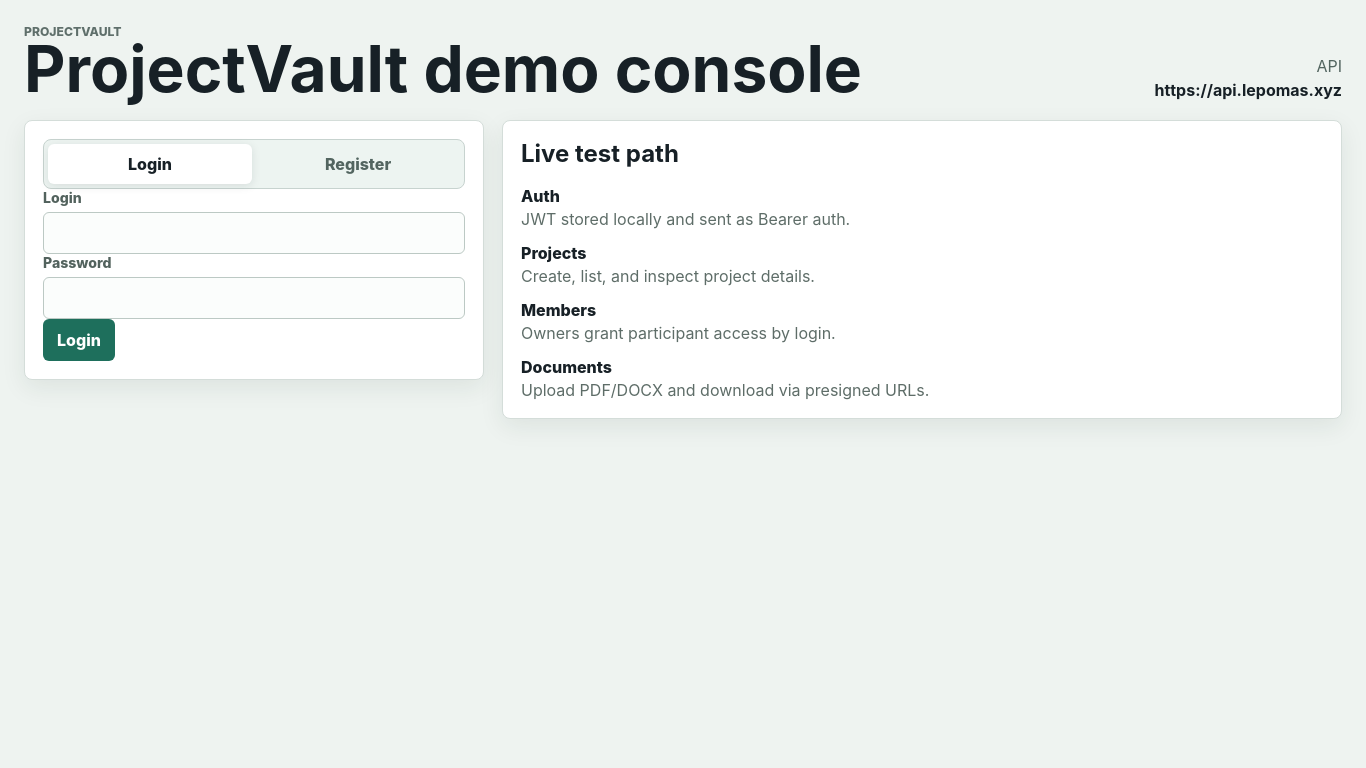
Test case: App › registers, logs in, stores the JWT, and loads the session
The width and height of the screenshot is (1366, 768).
Click the button "Register": (358, 164) [256,144,460,184]
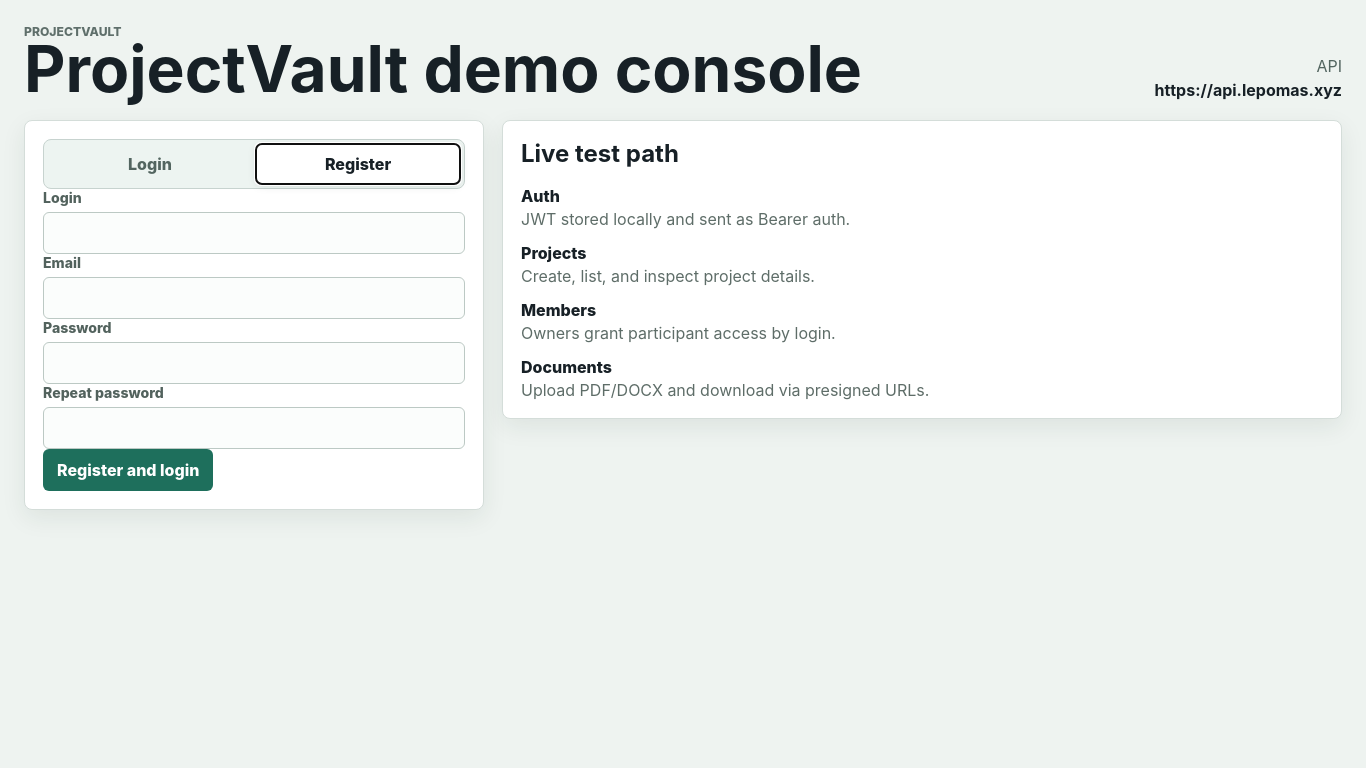
In the field labelled "Login": (254, 233) [43,212,465,254], type "demo-owner"
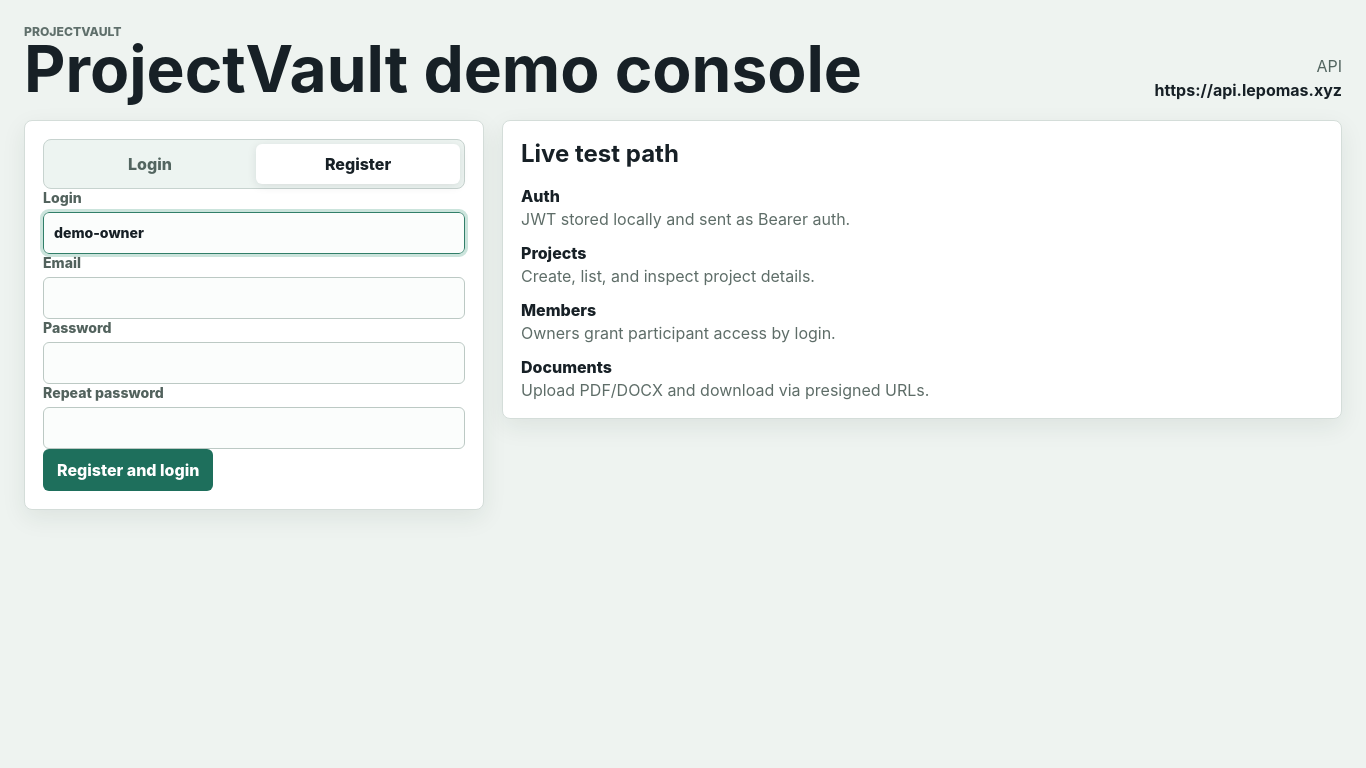
In the field labelled "Email": (254, 298) [43,277,465,319], type "demo-owner@example.com"
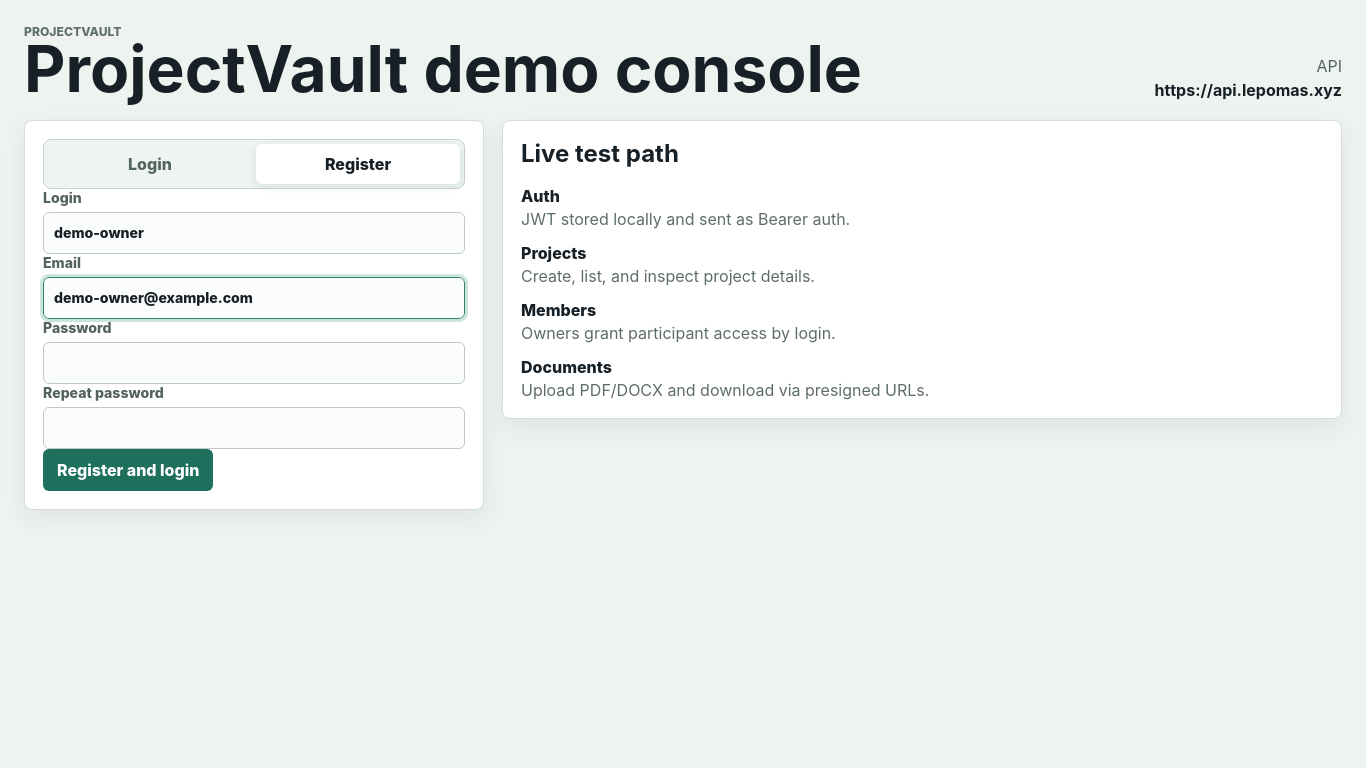
In the password field labelled "Password": (254, 363) [43,342,465,384], type "super-secret-123"
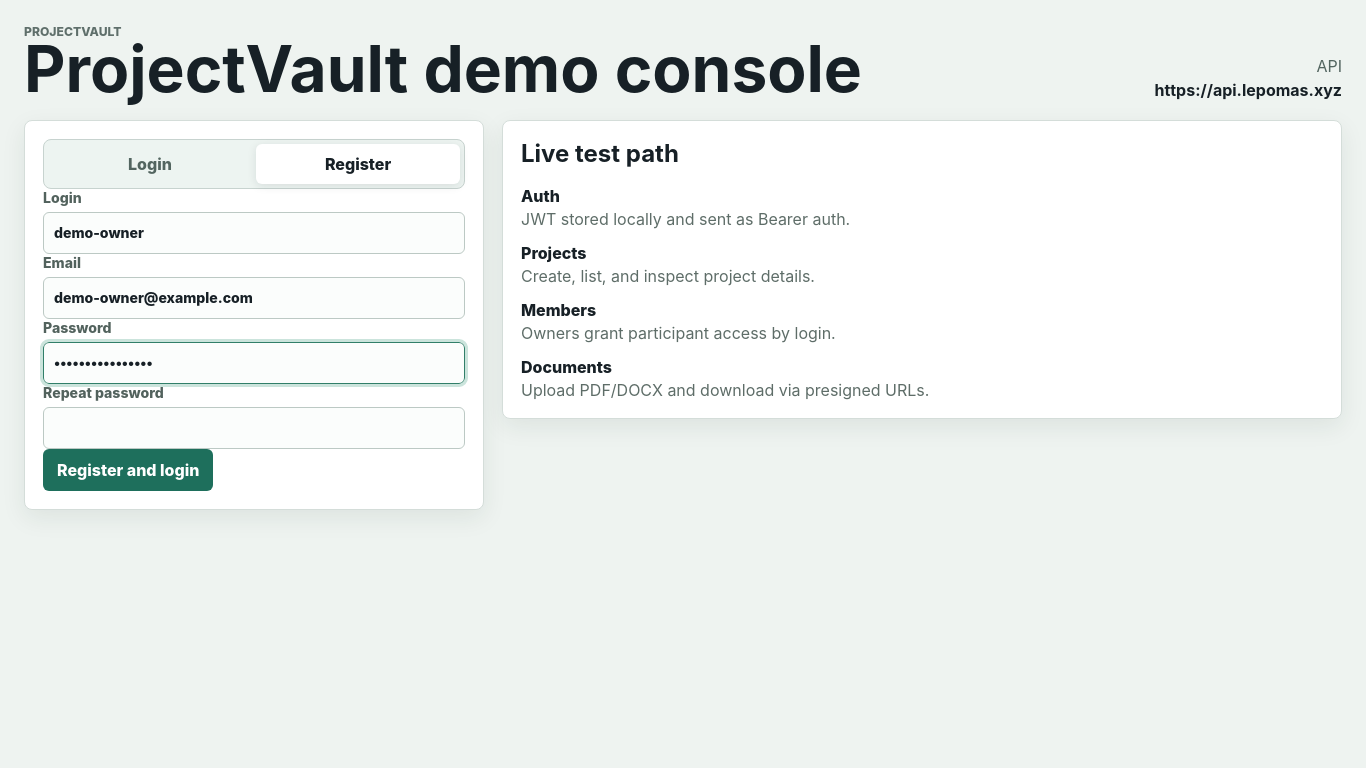
In the password field labelled "Repeat password": (254, 428) [43,407,465,449], type "super-secret-123"
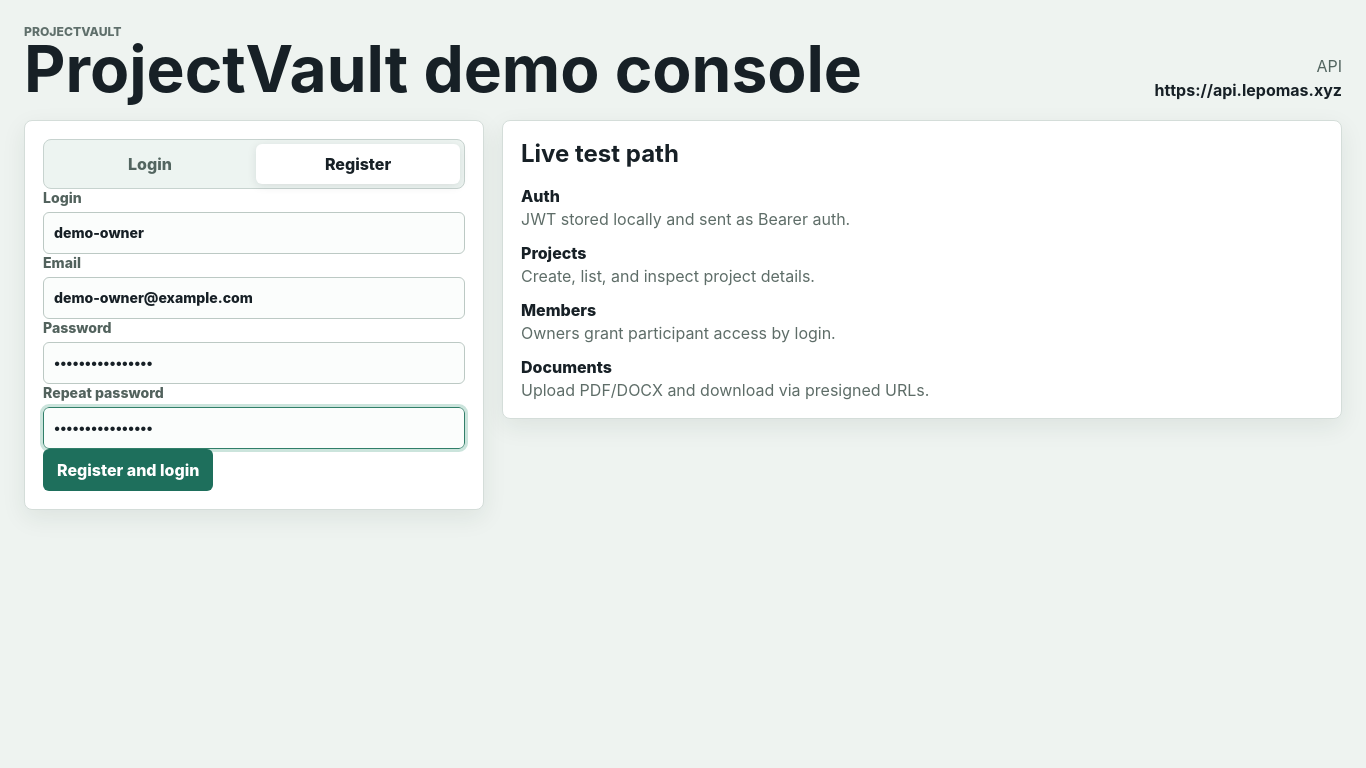
Click the button "Register and login": (128, 470) [43,449,213,491]
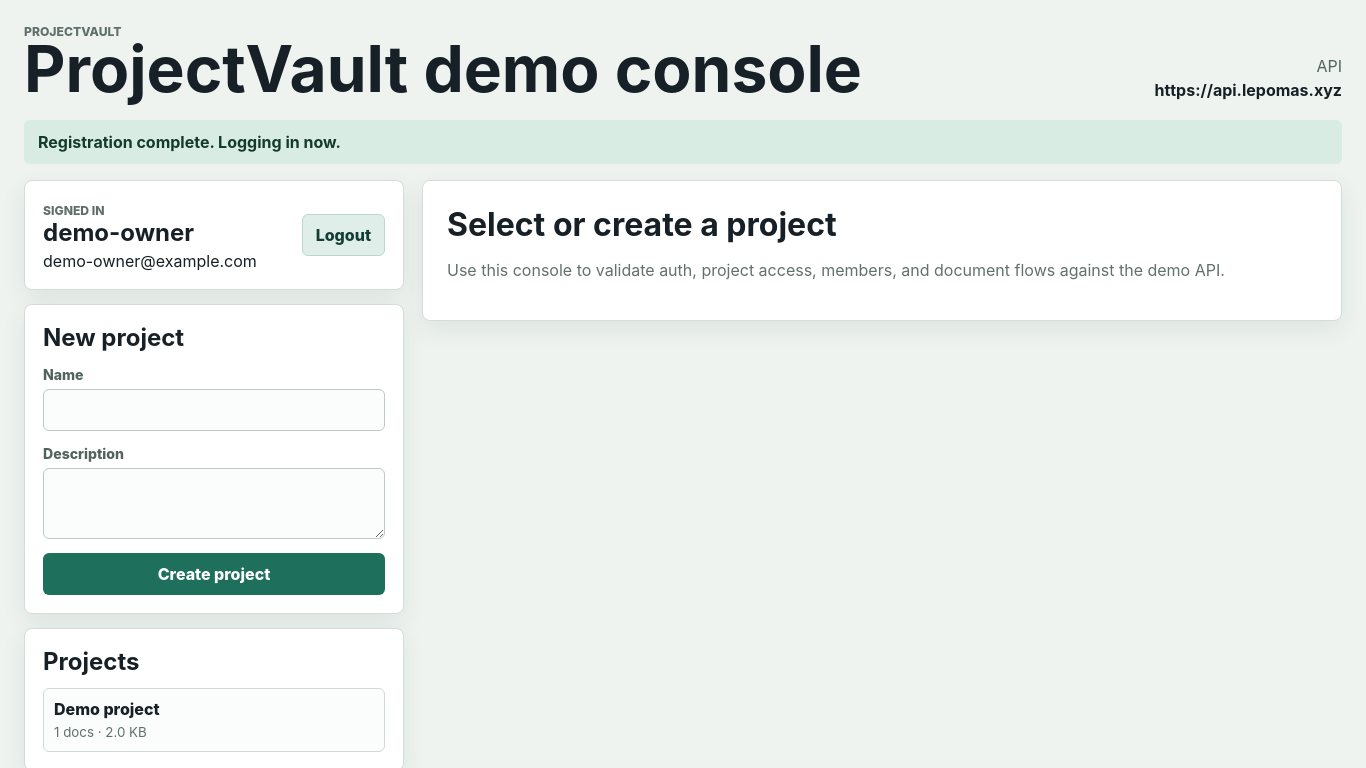
Expected: the text "demo-owner@example.com" is shown, [43,251,257,271]
